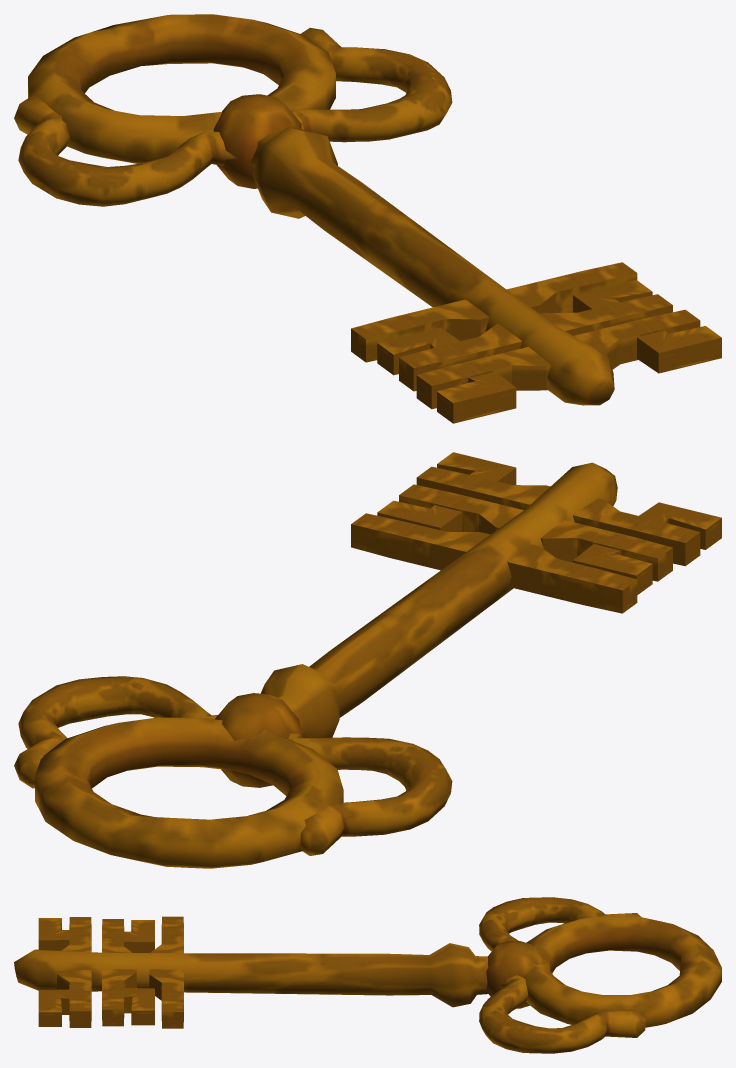
Rendered from key.glb.
3 views of the same model, one above another, from view 1: azimuth 30°, elevation 25°; view 2: azimuth 150°, elevation 25°; view 3: azimuth 270°, elevation 25° (orthographic). The views are drawn at different scales.
Parts seen in each view (by area): view 1: Key_Gold; view 2: Key_Gold; view 3: Key_Gold.
Part boxes in pixels (bbox=[...]): Key_Gold: bbox=[14, 14, 721, 423]; Key_Gold: bbox=[14, 452, 721, 868]; Key_Gold: bbox=[14, 897, 721, 1053].
Bounding box in the file's own units: 0.0581 × 0.0123 × 0.1223.
Materials: 1 (1 with a texture image).
